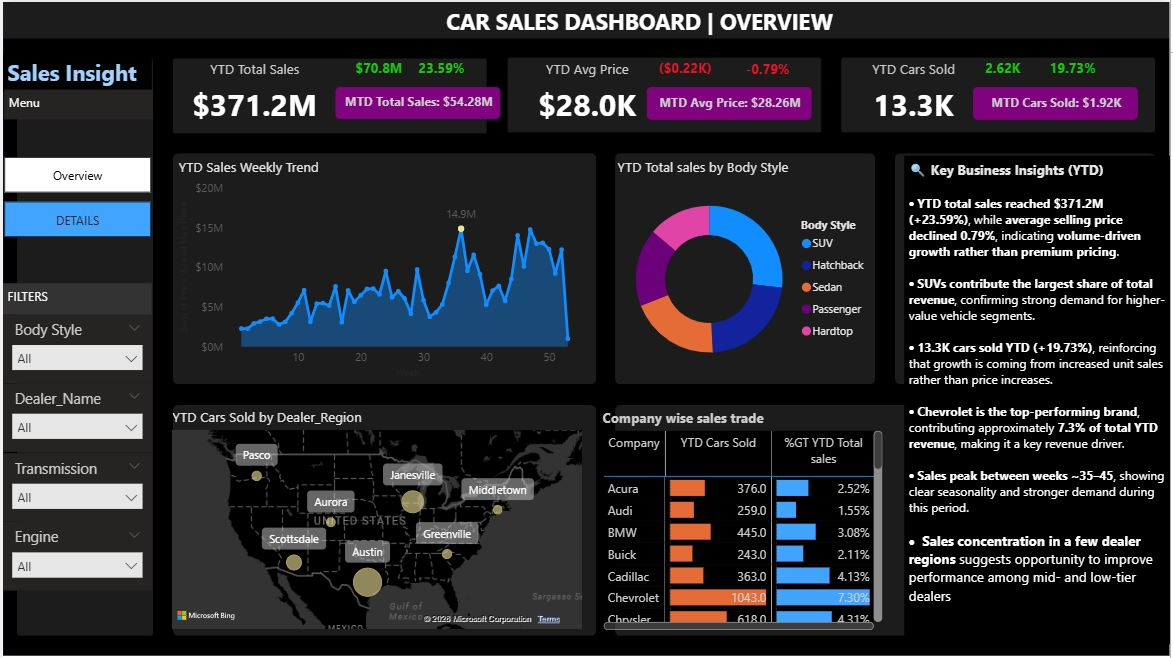

The dashboard page shown, as its layout file describes it:
{"tool":"powerbi","page":{"name":"Overview","canvas":[1280,720],"ordinal":0},"visuals":[{"type":"card","title":"YTD Total Sales","fields":{"Values":["car_data.YTD Total sales"]},"box":[187.8,63.1,176.9,79.5],"z":0},{"type":"card","fields":{"Values":["car_data.Sales Difference"]},"box":[364.7,46.6,96,56.2],"z":1000},{"type":"card","fields":{"Values":["car_data.YOY Sales Growth"]},"box":[433.3,46.6,96,56.2],"z":2000},{"type":"card","fields":{"Values":["car_data.MTD KPI"]},"box":[364.7,93.2,181,35],"z":3000},{"type":"card","title":"YTD Avg Price","fields":{"Values":["car_data.YTD Avg Price"]},"box":[552.5,63.1,176.9,79.5],"z":4000},{"type":"card","fields":{"Values":["car_data.Avg Price Diff"]},"box":[700.6,46.6,96,56.2],"z":5000},{"type":"card","fields":{"Values":["car_data.YOY Avg Price Growth"]},"box":[791.1,48,96,56.2],"z":6000},{"type":"card","fields":{"Values":["car_data.MTD Avg Price KPI"]},"box":[706.1,93.2,181,35.6],"z":7000},{"type":"card","title":"YTD Cars Sold","fields":{"Values":["car_data.YTD Cars Sold"]},"box":[910.4,63.1,176.9,79.5],"z":8000},{"type":"card","fields":{"Values":["car_data.Cars Sold Diff"]},"box":[1048.9,46.6,96,56.2],"z":9000},{"type":"card","fields":{"Values":["car_data.YOY Car Sold Growth"]},"box":[1125.6,46.6,96,56.2],"z":10000},{"type":"card","fields":{"Values":["car_data.MTD Cars Sold KPI"]},"box":[1063.9,93.2,181,35.6],"z":11000},{"type":"areaChart","title":"YTD Sales Weekly Trend","fields":{"Category":["Calendar Table.Week"],"Y":["Sum(car_data.Price ($))","car_data.Max Point"]},"box":[187.8,170,453.8,248.2],"z":12000},{"type":"clusteredColumnChart","fields":{"Category":["car_data.Body Style"],"Y":["car_data.YTD Total sales"]},"box":[669.1,170,289.3,248.2],"z":13000},{"type":"map","fields":{"Category":["car_data.Dealer_Region"],"Size":["car_data.YTD Cars Sold"]},"box":[181,444.2,459.3,248.2],"z":14000},{"type":"tableEx","title":"Company wise sales trade","fields":{"Values":["car_data.Company","car_data.YTD Cars Sold","car_data.YTD Total sales"]},"box":[652.6,445.6,316.7,248.2],"z":15000},{"type":"textbox","box":[481.2,0,545.7,111.1],"z":16000},{"type":"slicer","fields":{"Values":["car_data.Body Style"]},"box":[0,342.8,163.2,75.4],"z":17000},{"type":"slicer","fields":{"Values":["car_data.Dealer_Name"]},"box":[0,418.2,163.2,75.4],"z":18000},{"type":"slicer","fields":{"Values":["car_data.Transmission"]},"box":[0,494.9,163.2,75.4],"z":19000},{"type":"slicer","fields":{"Values":["car_data.Engine"]},"box":[0,570.4,163.2,75.4],"z":20000},{"type":"textbox","box":[0,308.5,163.2,34.3],"z":21000},{"type":"textbox","box":[0,56.2,163.2,42.5],"z":22000},{"type":"textbox","box":[1.4,96,163.2,32.9],"z":23000},{"type":"pageNavigator","box":[1.4,170,161.8,89.1],"z":24000},{"type":"textbox","box":[988.5,168.6,292,536.1],"z":25000}]}

Visuals, with their boxes in screenshot pixels (x1, y1, x2, y2), scaled from the page's 1280x720 canvas onto the 1173x658 screenshot:
"YTD Total Sales" card: region(172, 58, 334, 130)
card - car_data.Sales Difference: region(334, 43, 422, 94)
card - car_data.YOY Sales Growth: region(397, 43, 485, 94)
card - car_data.MTD KPI: region(334, 85, 500, 117)
"YTD Avg Price" card: region(506, 58, 668, 130)
card - car_data.Avg Price Diff: region(642, 43, 730, 94)
card - car_data.YOY Avg Price Growth: region(725, 44, 813, 95)
card - car_data.MTD Avg Price KPI: region(647, 85, 813, 118)
"YTD Cars Sold" card: region(834, 58, 996, 130)
card - car_data.Cars Sold Diff: region(961, 43, 1049, 94)
card - car_data.YOY Car Sold Growth: region(1032, 43, 1119, 94)
card - car_data.MTD Cars Sold KPI: region(975, 85, 1141, 118)
"YTD Sales Weekly Trend" areaChart: region(172, 155, 588, 382)
clusteredColumnChart - car_data.Body Style x car_data.YTD Total sales: region(613, 155, 878, 382)
map - car_data.Dealer_Region x car_data.YTD Cars Sold: region(166, 406, 587, 633)
"Company wise sales trade" tableEx: region(598, 407, 888, 634)
textbox: region(441, 0, 941, 102)
slicer - car_data.Body Style: region(0, 313, 150, 382)
slicer - car_data.Dealer_Name: region(0, 382, 150, 451)
slicer - car_data.Transmission: region(0, 452, 150, 521)
slicer - car_data.Engine: region(0, 521, 150, 590)
textbox: region(0, 282, 150, 313)
textbox: region(0, 51, 150, 90)
textbox: region(1, 88, 151, 118)
pageNavigator: region(1, 155, 150, 237)
textbox: region(906, 154, 1172, 644)
